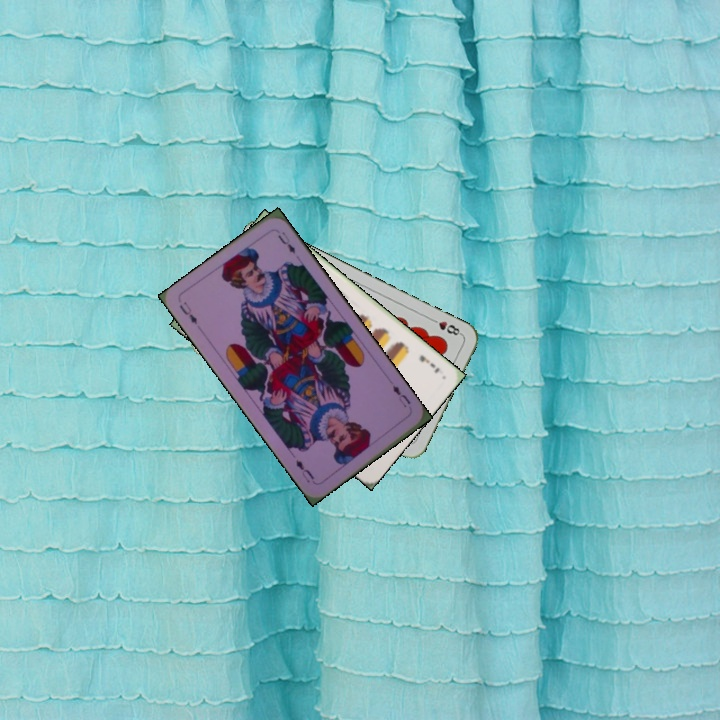E7: (415, 351, 442, 376)
EU: (175, 297, 200, 327), (388, 381, 413, 410)
H8: (426, 314, 464, 338)
